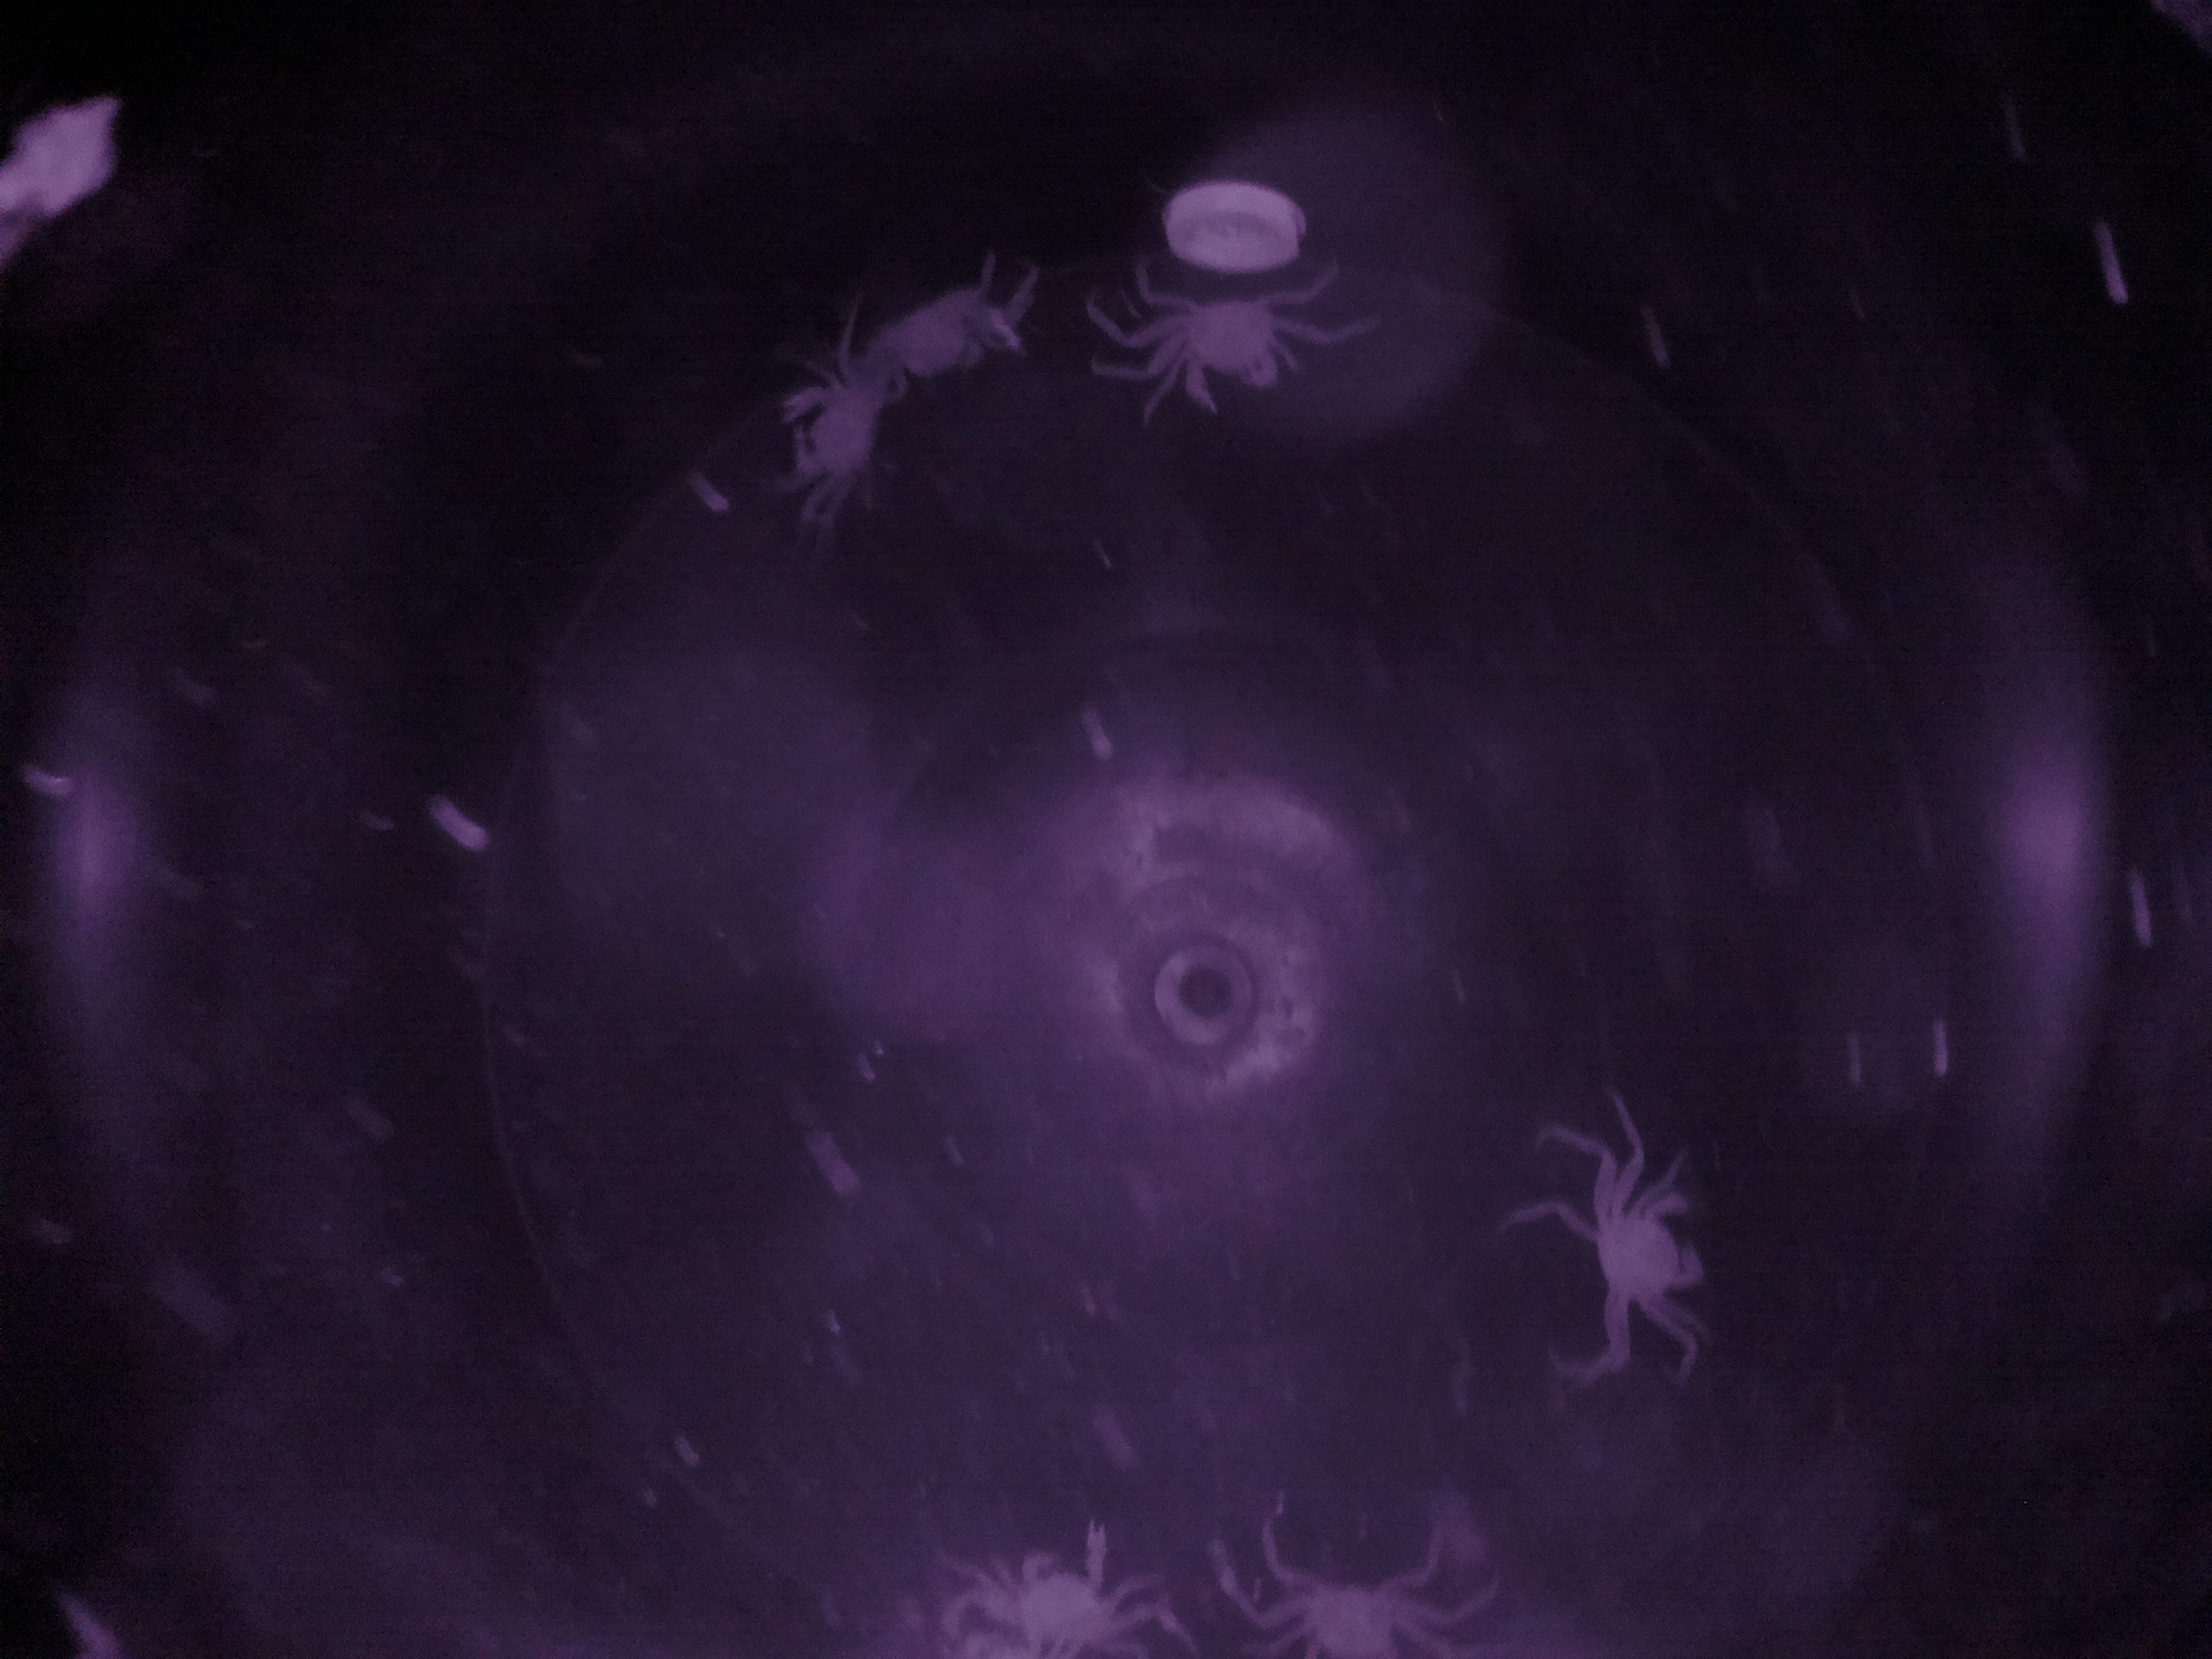Crab: (1571, 1138, 1710, 1349), (1132, 272, 1313, 423)
